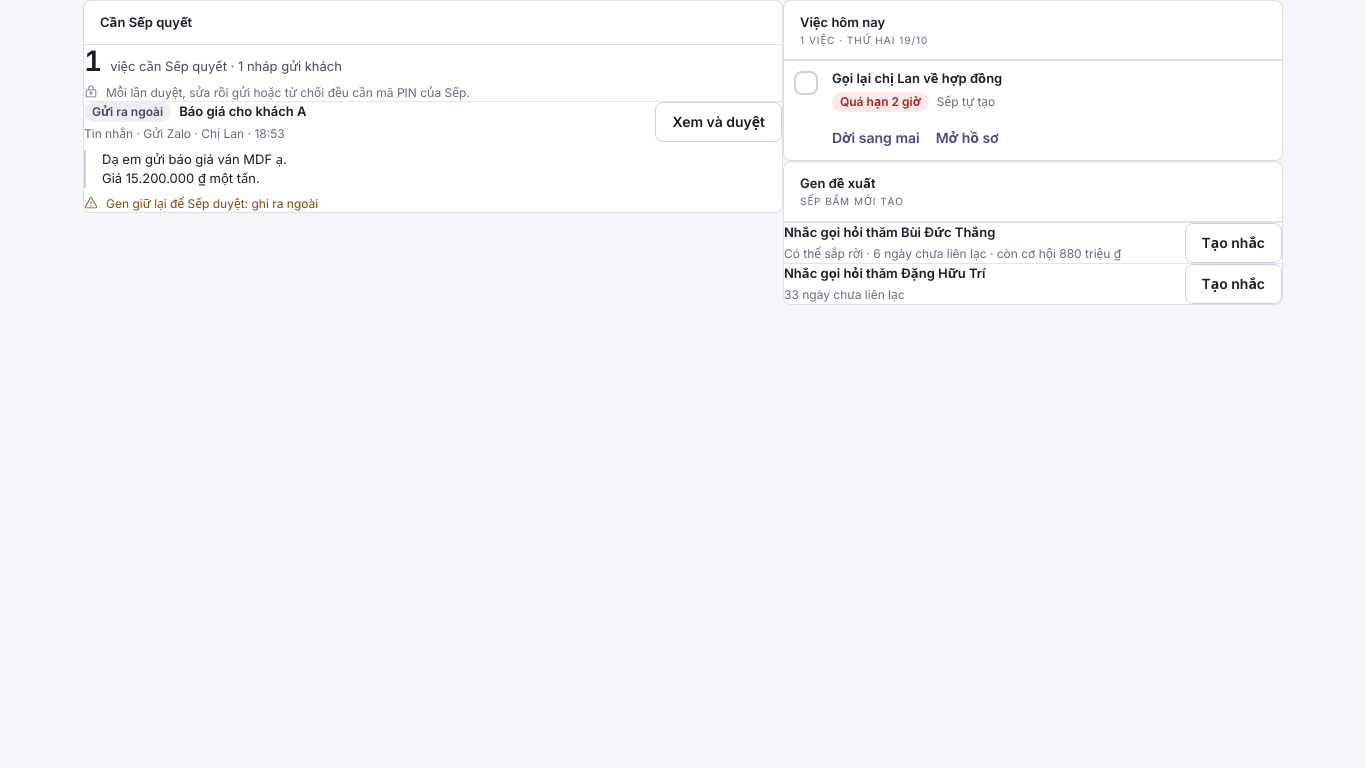
Việc (/owner/viec) › Xem và duyệt mở rộng DraftDecide tại chỗ; Duyệt và gửi → mã PIN → nháp biến mất
The image size is (1366, 768).
Click the button with test id "work-draft-toggle" at (719, 122), box [656,102,782,142]
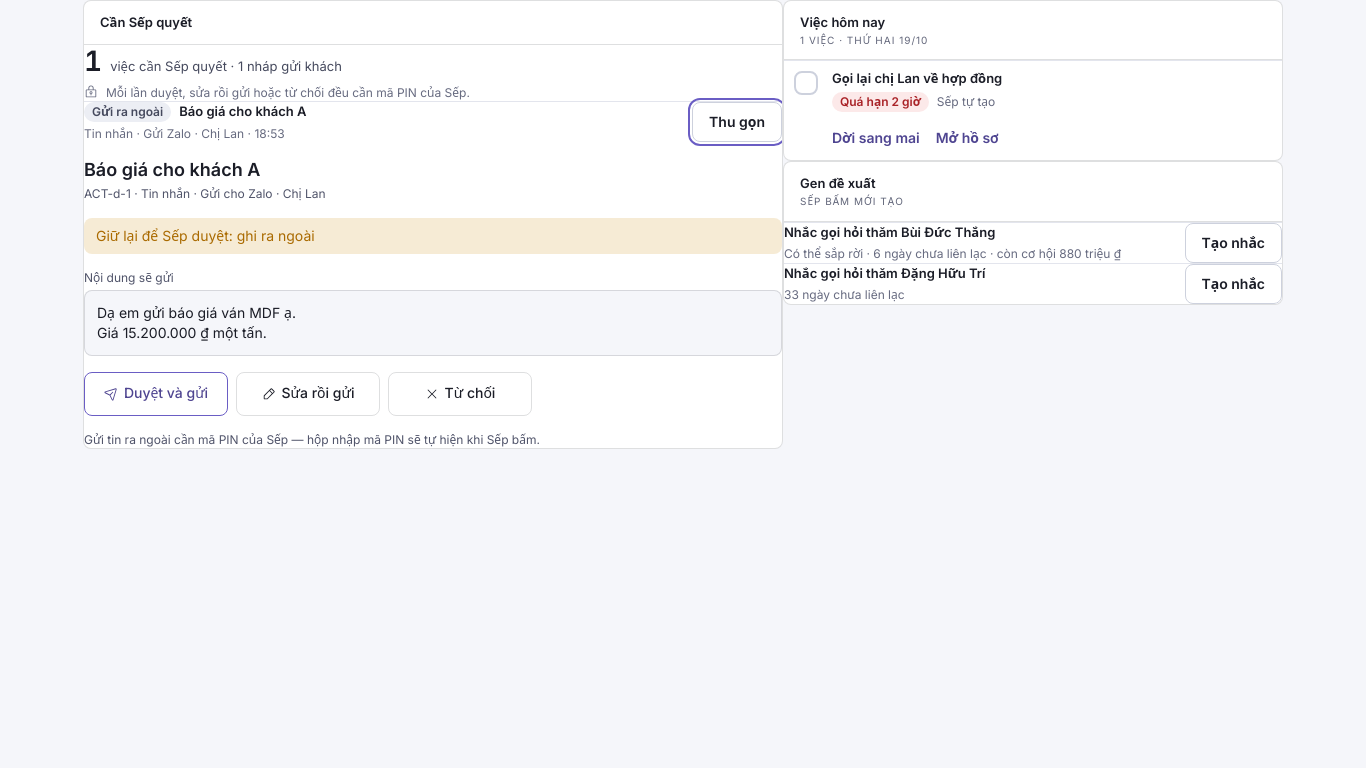
Click the button "Duyệt và gửi" at (156, 394), box [84,372,228,416]
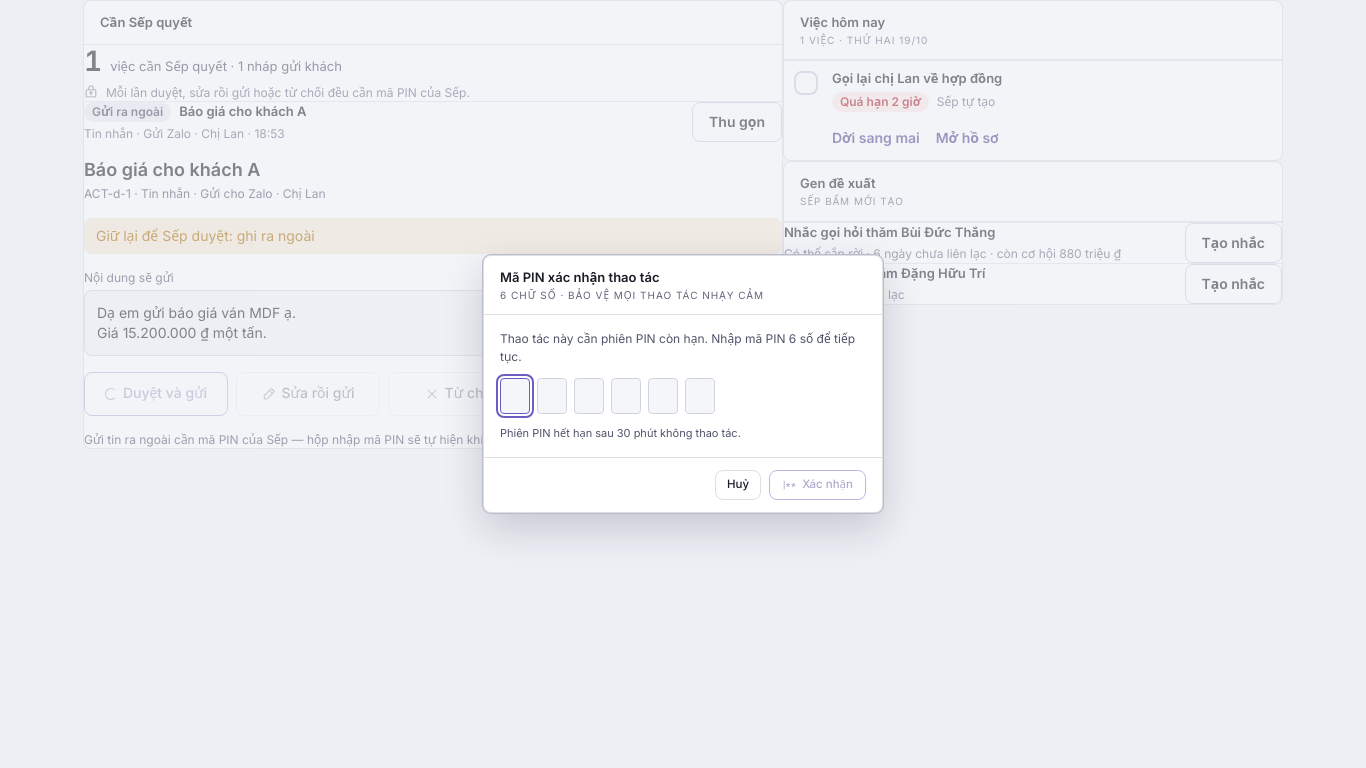
Expected: the dialog "Mã PIN xác nhận thao tác" is shown, [483,255,883,513]
Type keys "246810"
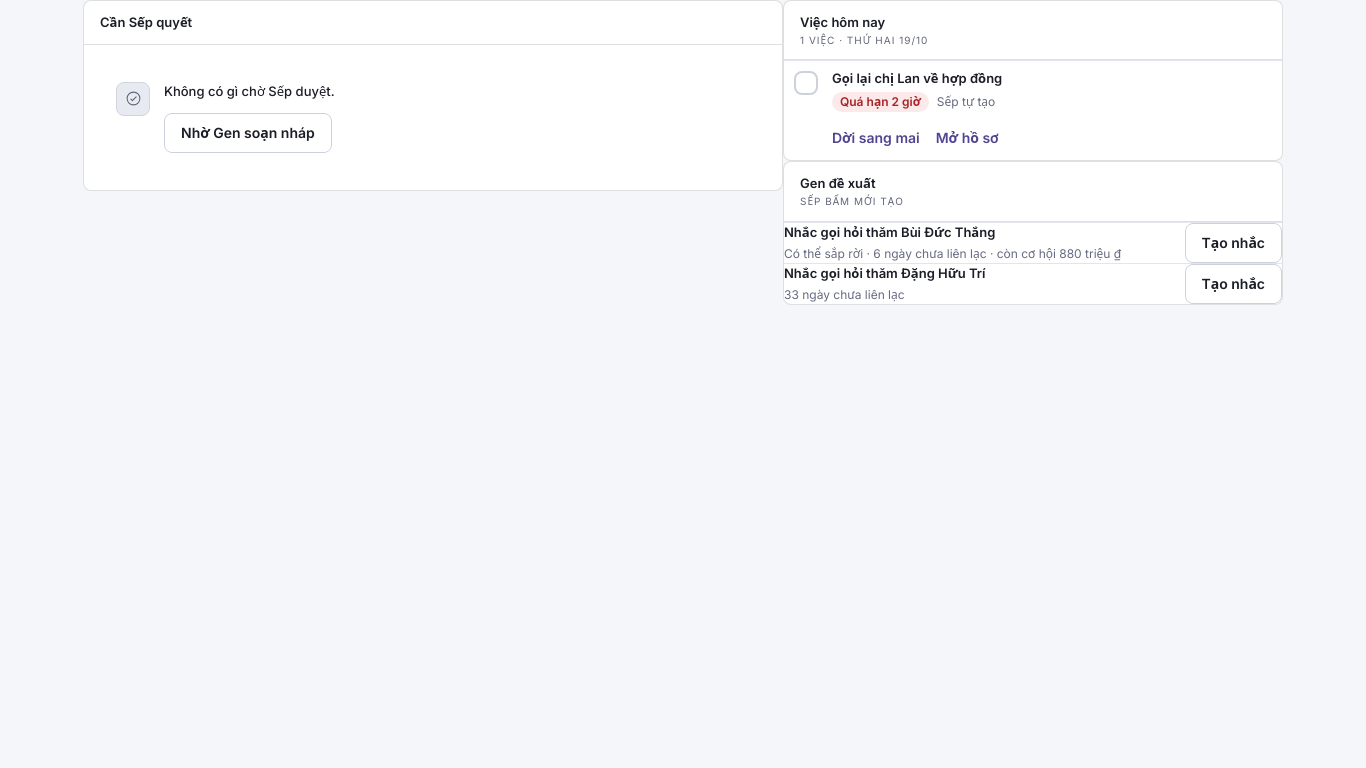
Expected: the list item with test id "work-draft-row" is gone
Expected: the text "Không có gì chờ Sếp duyệt." is shown, [164,83,335,99]
